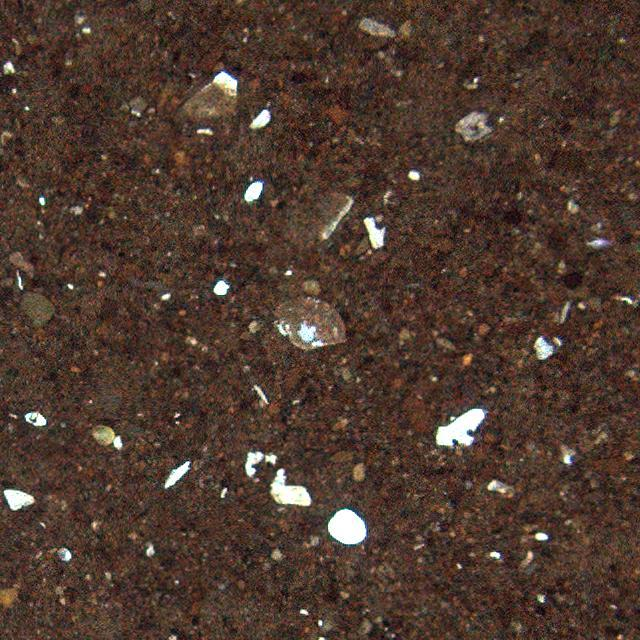crab: (271, 294, 350, 355)
